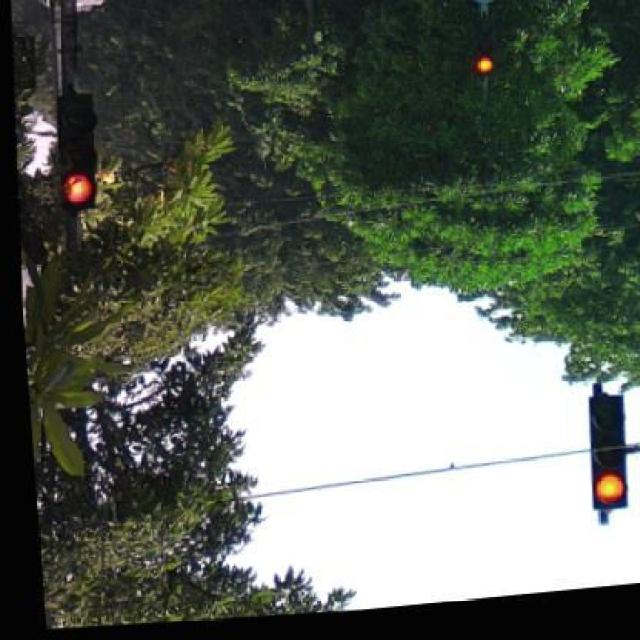Traffic Light -Red-: (582, 388, 636, 528), (52, 95, 98, 217), (472, 22, 497, 81)
